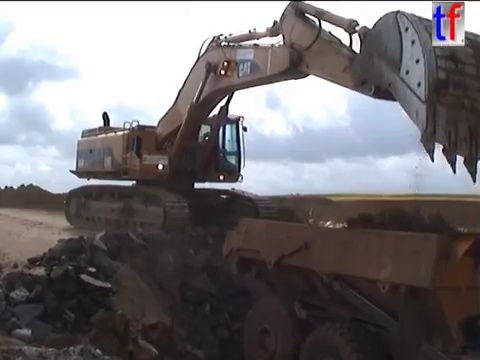excavator: (60, 1, 480, 240)
truck: (218, 196, 480, 360)
